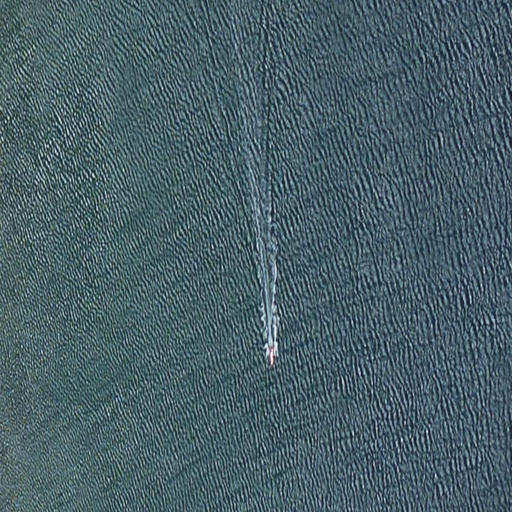ship: (268, 348, 276, 368)
